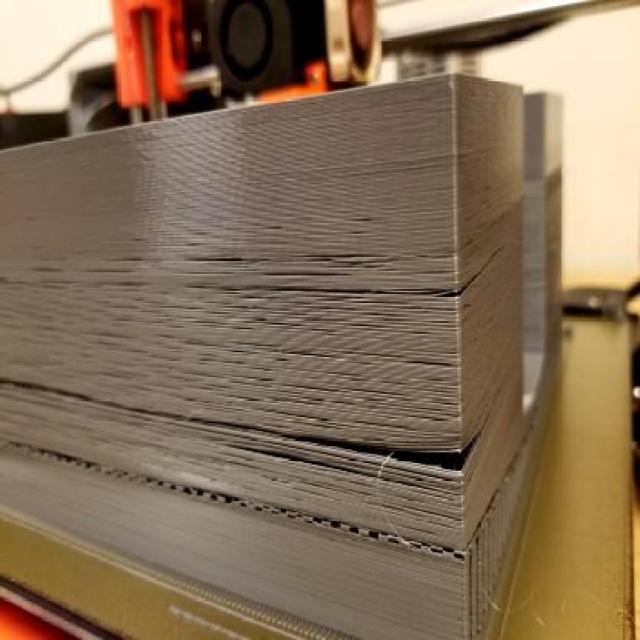cracks: (205, 366, 513, 500), (266, 233, 506, 322)
